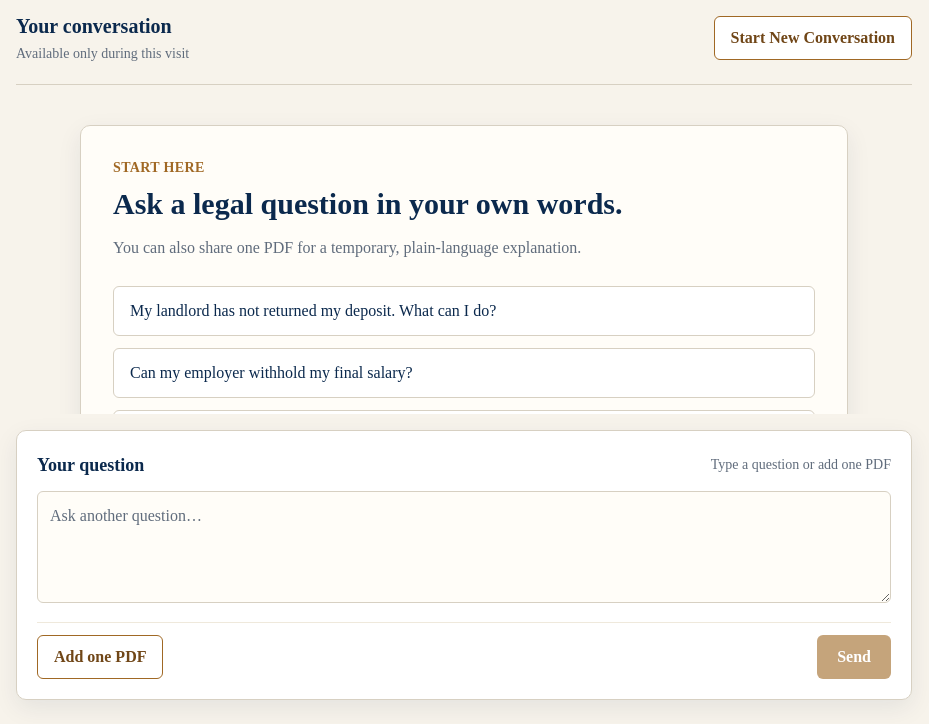
Test case: PublicAsk › distinguishes a network failure with fixed connection guidance
Type "What can I do?" into the text box labelled "Your question" at (464, 547), box 37,491 -> 891,603
Then press Enter
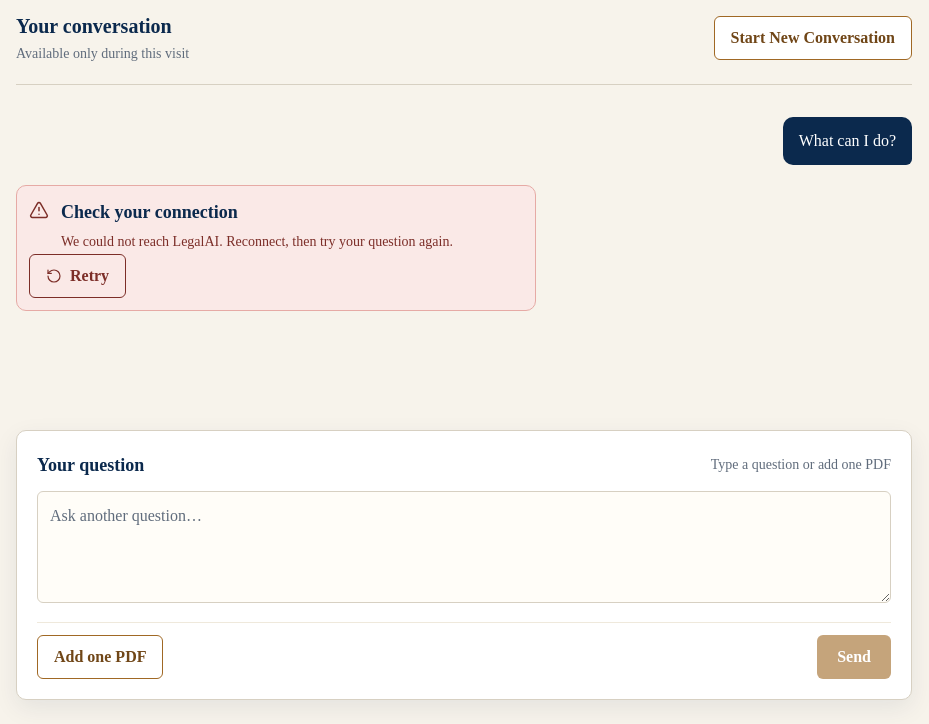
Expected: the message that starts with "Check your connection" does not show "private-host", 16,185 -> 536,311
Result: the message that starts with "Check your connection" is shown at 61,202 -> 238,222
Result: the message that starts with "Check your connection" shows "Reconnect, then try your question again." at 61,234 -> 453,249
